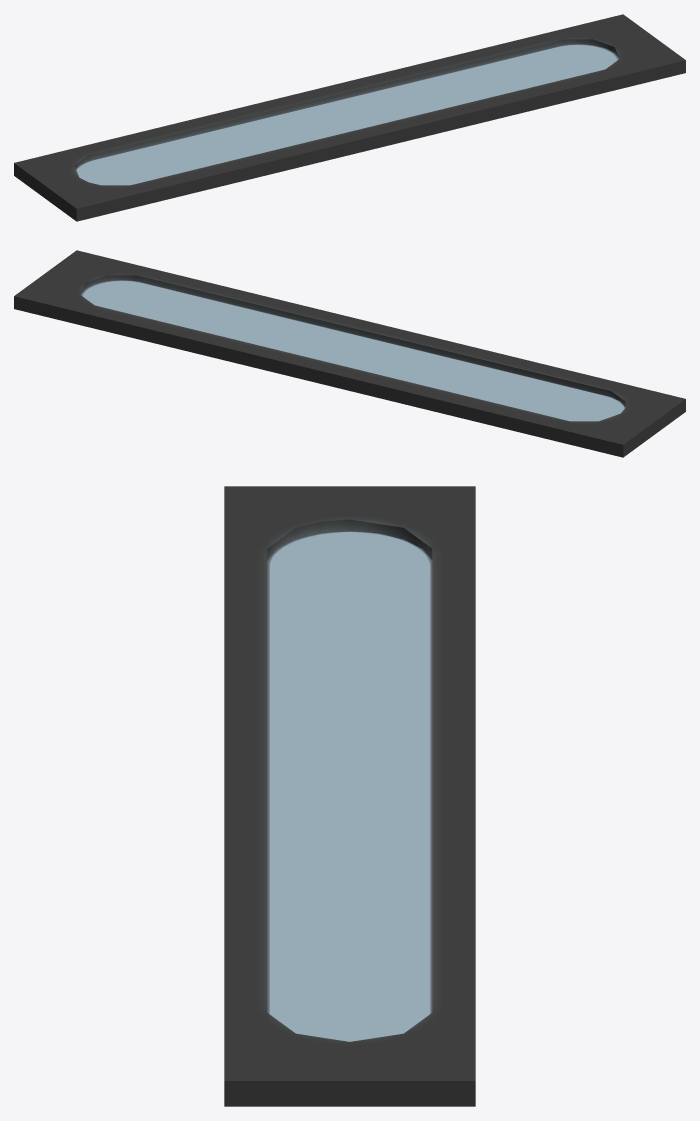
Rendered from light_strip_cold.obj.
3 views of the same model, one above another, from view 1: azimuth 30°, elevation 25°; view 2: azimuth 150°, elevation 25°; view 3: azimuth 270°, elevation 25° (orthographic). The views are drawn at different scales.
Parts seen in each view (by area): view 1: light_strip; view 2: light_strip; view 3: light_strip.
Part boxes in pixels (left/top/right/bottom): light_strip: left=14, top=14, right=685, bottom=221; light_strip: left=14, top=250, right=685, bottom=457; light_strip: left=224, top=486, right=475, bottom=1106.
Bounding box in the file's own units: 0.9528 × 0.0192 × 0.17.
1 material, 1 textured.
